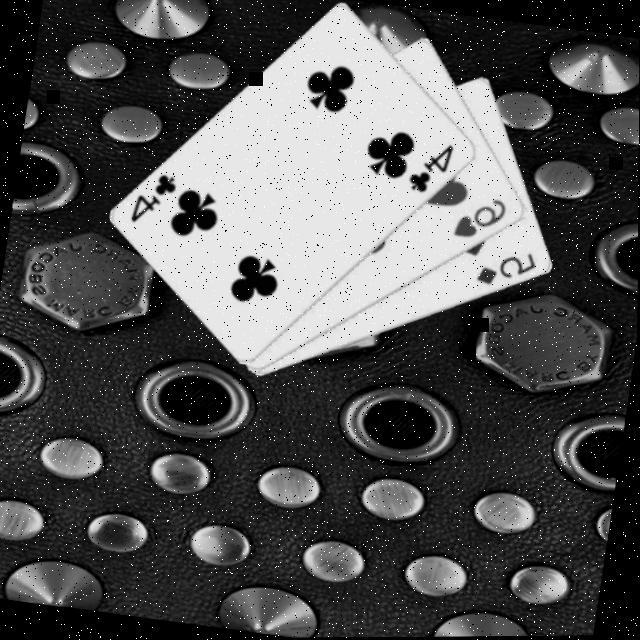4C: (402, 138, 456, 202), (126, 167, 180, 231)
5D: (471, 244, 540, 295)
6H: (448, 192, 509, 248)
